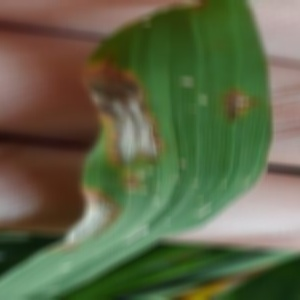Brown_Spot: (84, 58, 166, 185), (51, 174, 130, 258), (224, 81, 268, 119)
